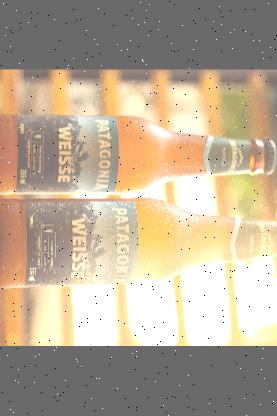Others: (0, 198, 277, 288), (0, 114, 276, 194)
